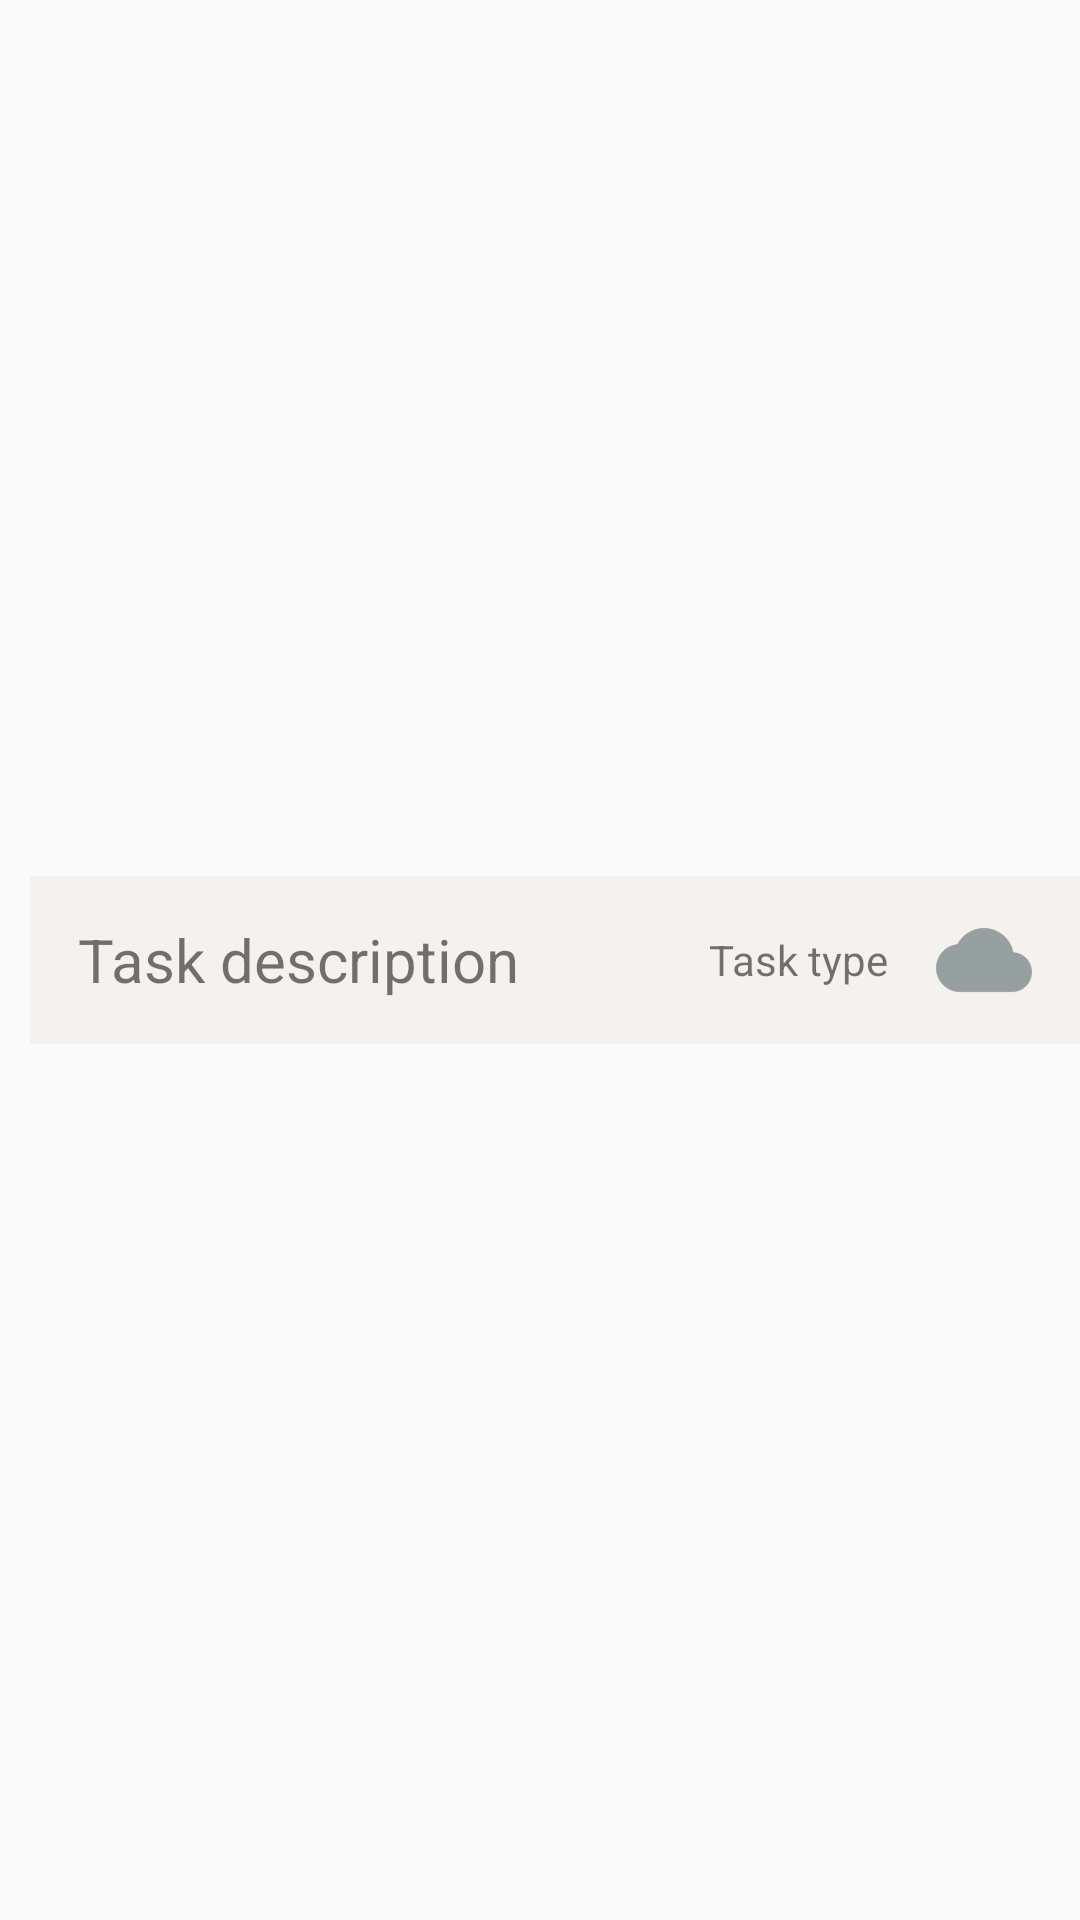

Screen size 1080x1920. Icon name, then its box in pixels as (x1,y1,x2,y2):
cloud: (936,928,1032,992)
